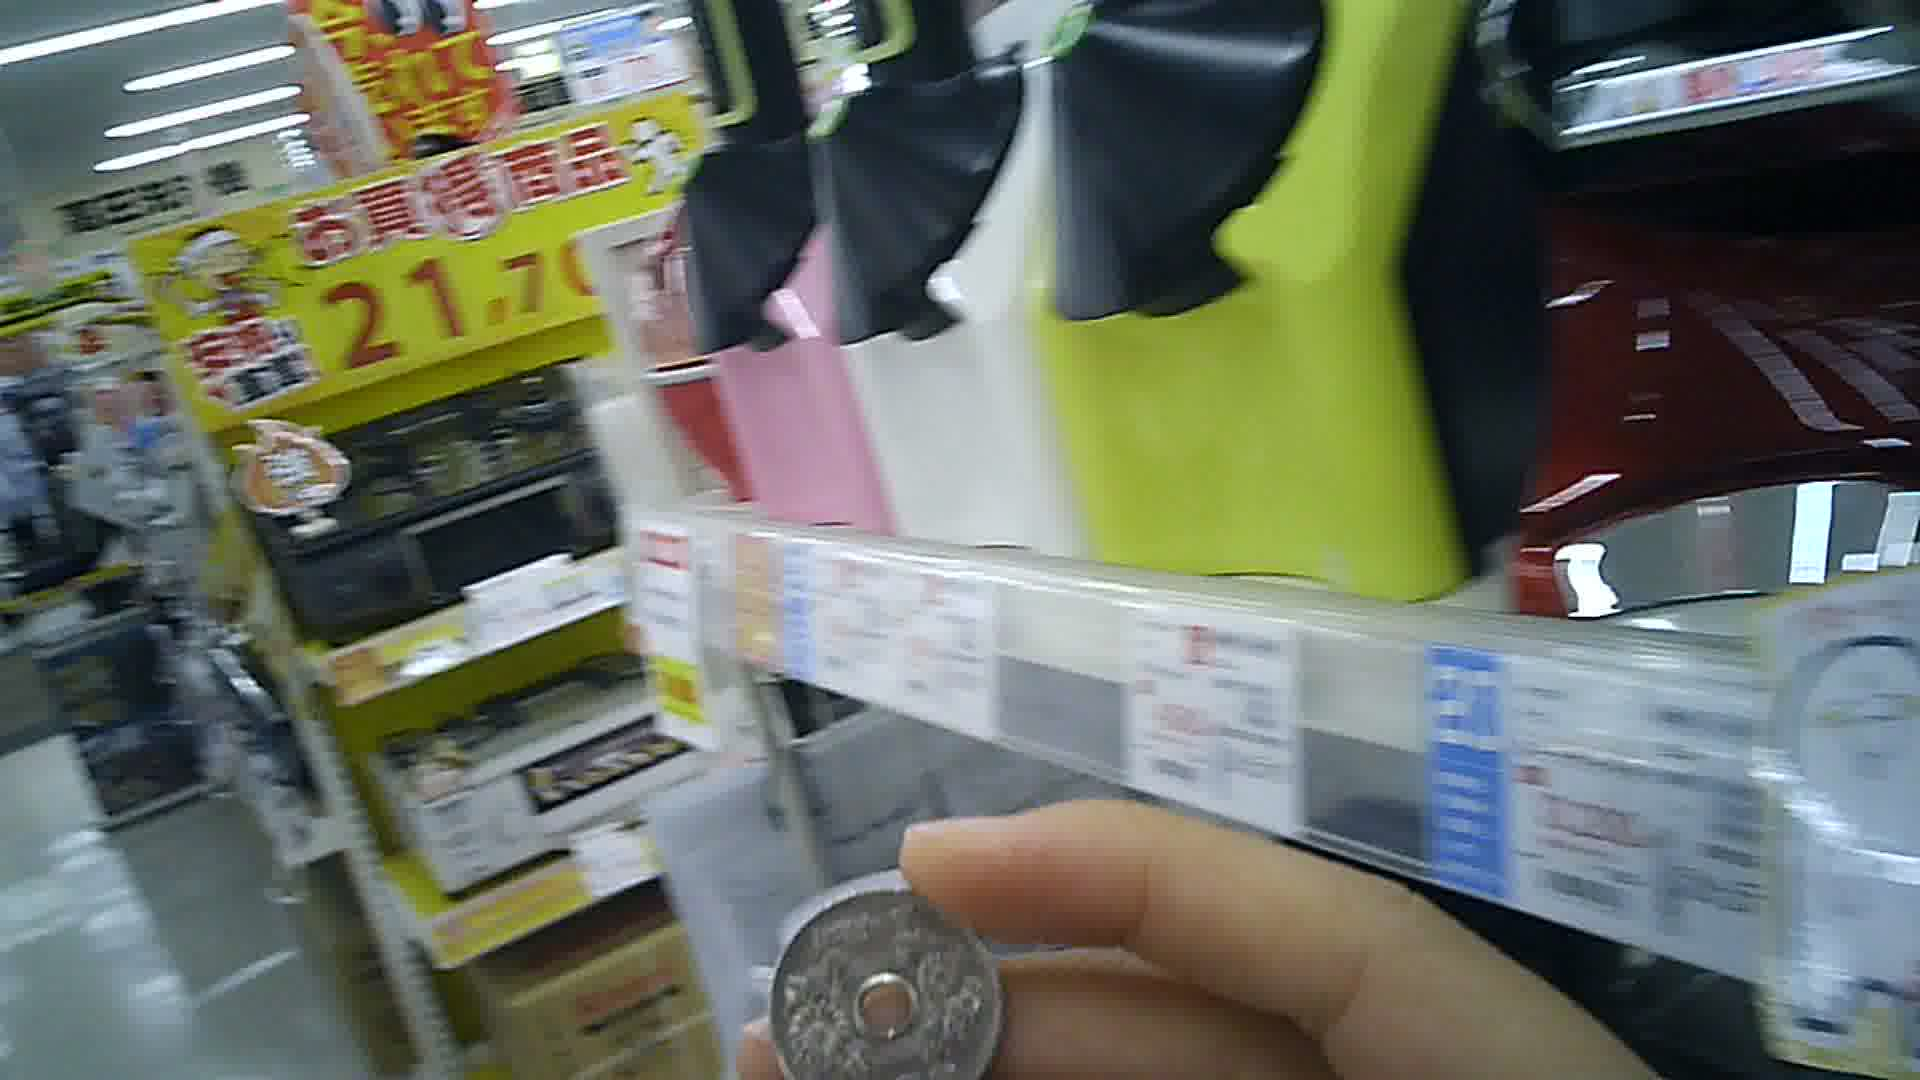50 Yen: (765, 887, 998, 1079)
